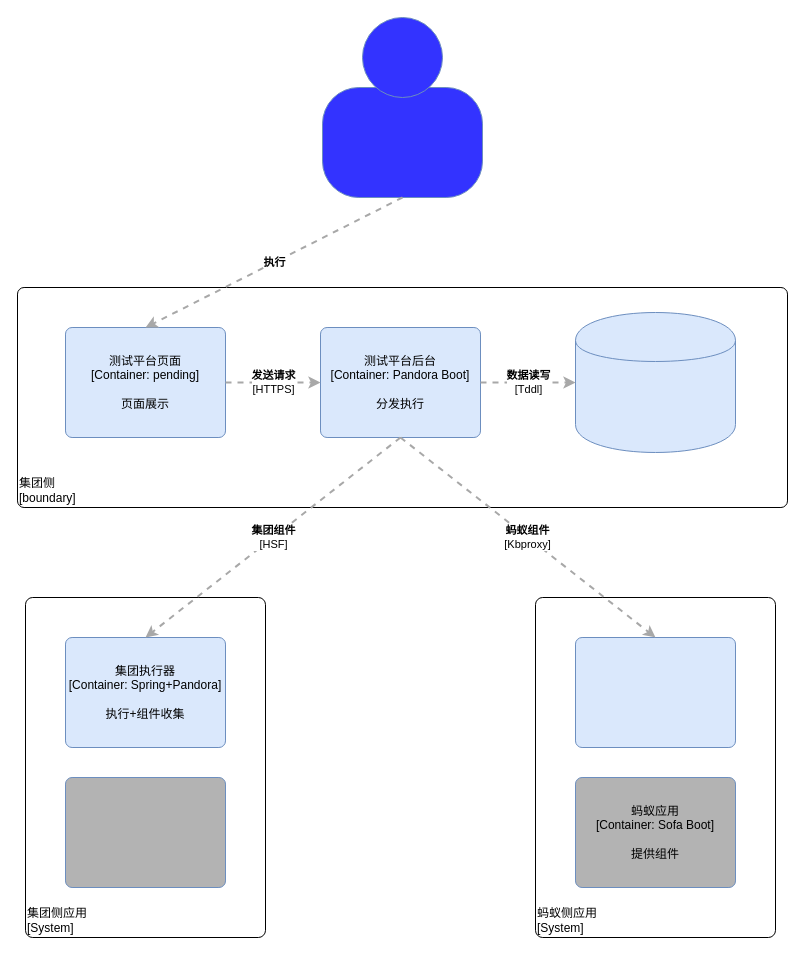
This 805x955 diagram has some shape labels left out. Each missing label, with the centre of its shape:
Database [Container: Tddl] 所有数据结构: point 655,382
用户 [Person] 工具/自动化执行者: point 402,142
蚂蚁执行器 [Container: Spring+Sofa ] 执行+组件收集: point 655,692
集团应用 [Container: Pandora Boot ] 提供组件: point 145,832
